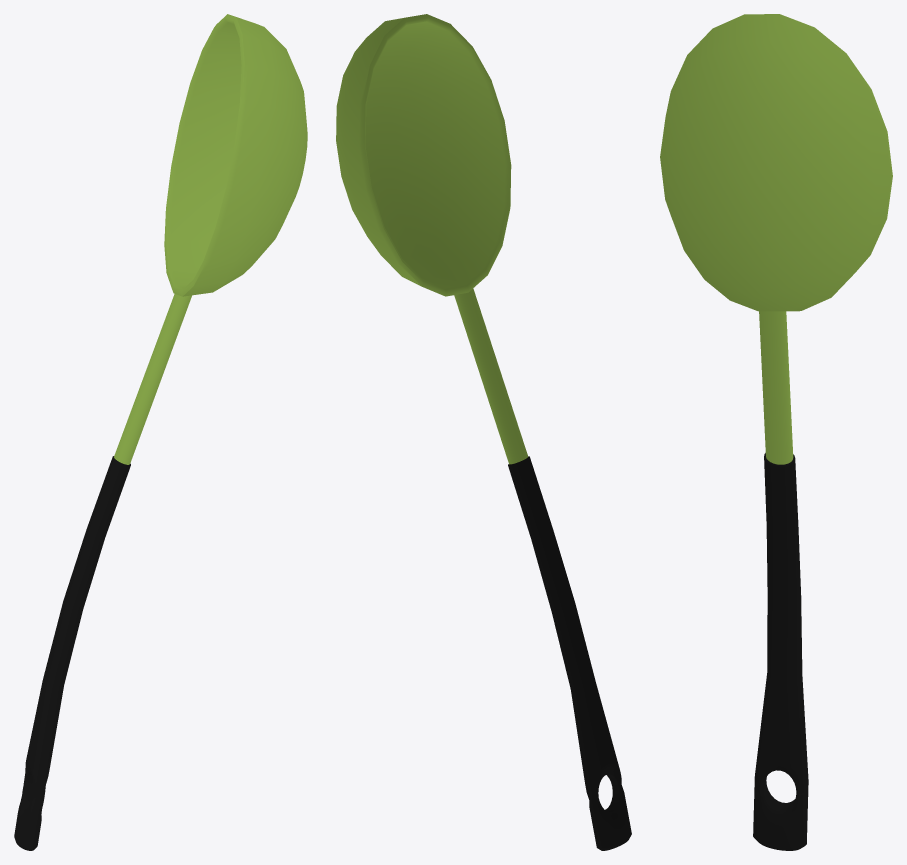
The model's file is Ladle_bd43260d.obj.
3 renders of one model, left to right at view 1: azimuth 30°, elevation 25°; view 2: azimuth 150°, elevation 25°; view 3: azimuth 270°, elevation 25°, orthographic. The views are drawn at different scales.
Parts seen in each view (by area): view 1: Ladle_bd43260d; view 2: Ladle_bd43260d; view 3: Ladle_bd43260d.
Boxes of the visible parts, left/top/right/bottom form: Ladle_bd43260d: left=14, top=14, right=307, bottom=850; Ladle_bd43260d: left=336, top=14, right=631, bottom=850; Ladle_bd43260d: left=660, top=14, right=892, bottom=850.
Bounding box in the file's own units: 0.1022 × 0.273 × 0.0601.
